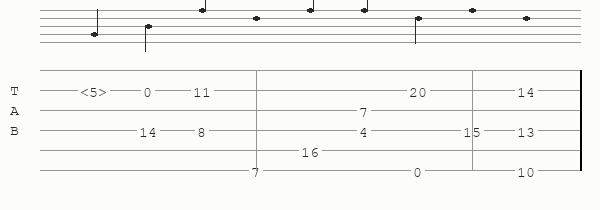0: (143, 84, 156, 97), (413, 164, 426, 177)
10: (517, 164, 539, 177)
11: (193, 84, 215, 97)
13: (517, 124, 539, 137)
14: (139, 124, 161, 137), (517, 84, 539, 97)
15: (463, 124, 485, 137)
16: (301, 144, 323, 157)
20: (409, 84, 431, 97)
4: (359, 124, 372, 137)
7: (251, 164, 264, 177), (359, 104, 372, 117)
8: (197, 124, 210, 137)
harmonic: (80, 84, 111, 97)
